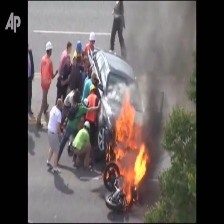fire_h: (105, 91, 148, 206)
fire_l: (106, 166, 118, 180)
